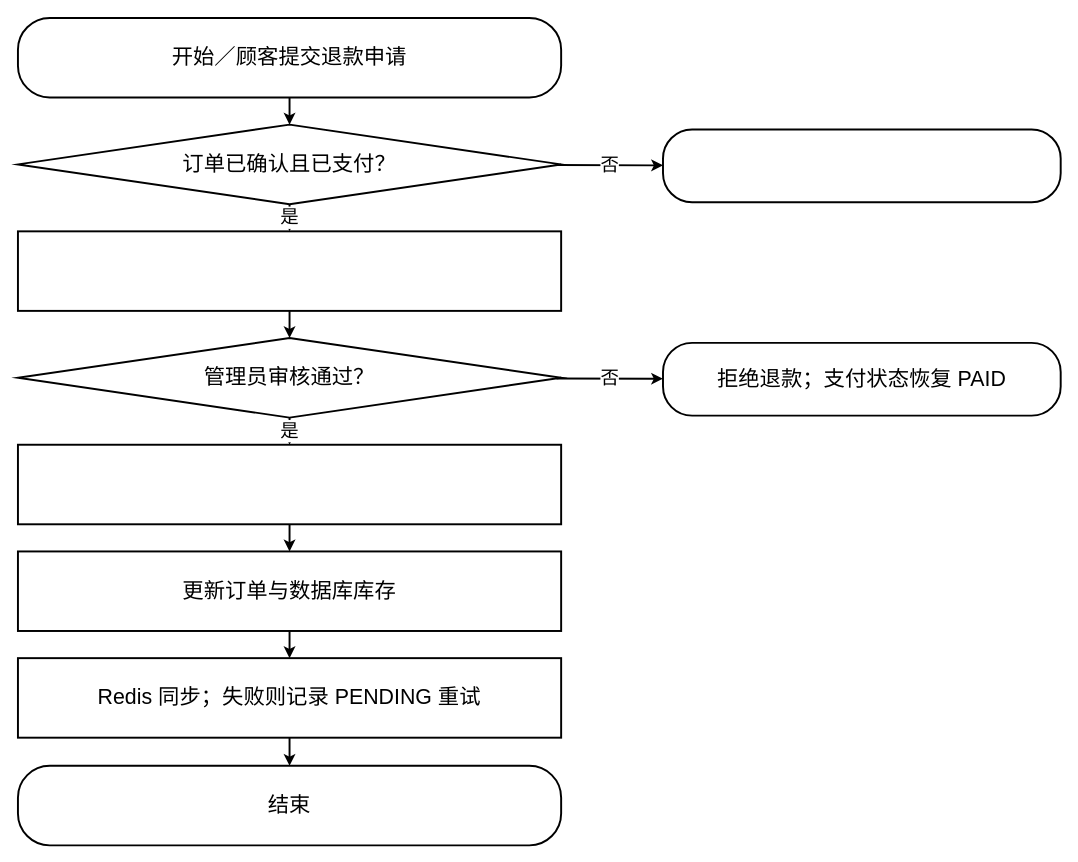
Some shapes in this 1078 by 862 pixel diagram are drawn without their labels. The shapes that lost their labels are listed below. From the top down, each one's box as (x1, y1, x2, y2) in pixels, then its label:
(662, 128, 1061, 203): 拒绝申请并说明原因
(16, 230, 562, 311): 锁定订单与退款申请
(16, 443, 562, 525): 核对成功支付流水并退款
